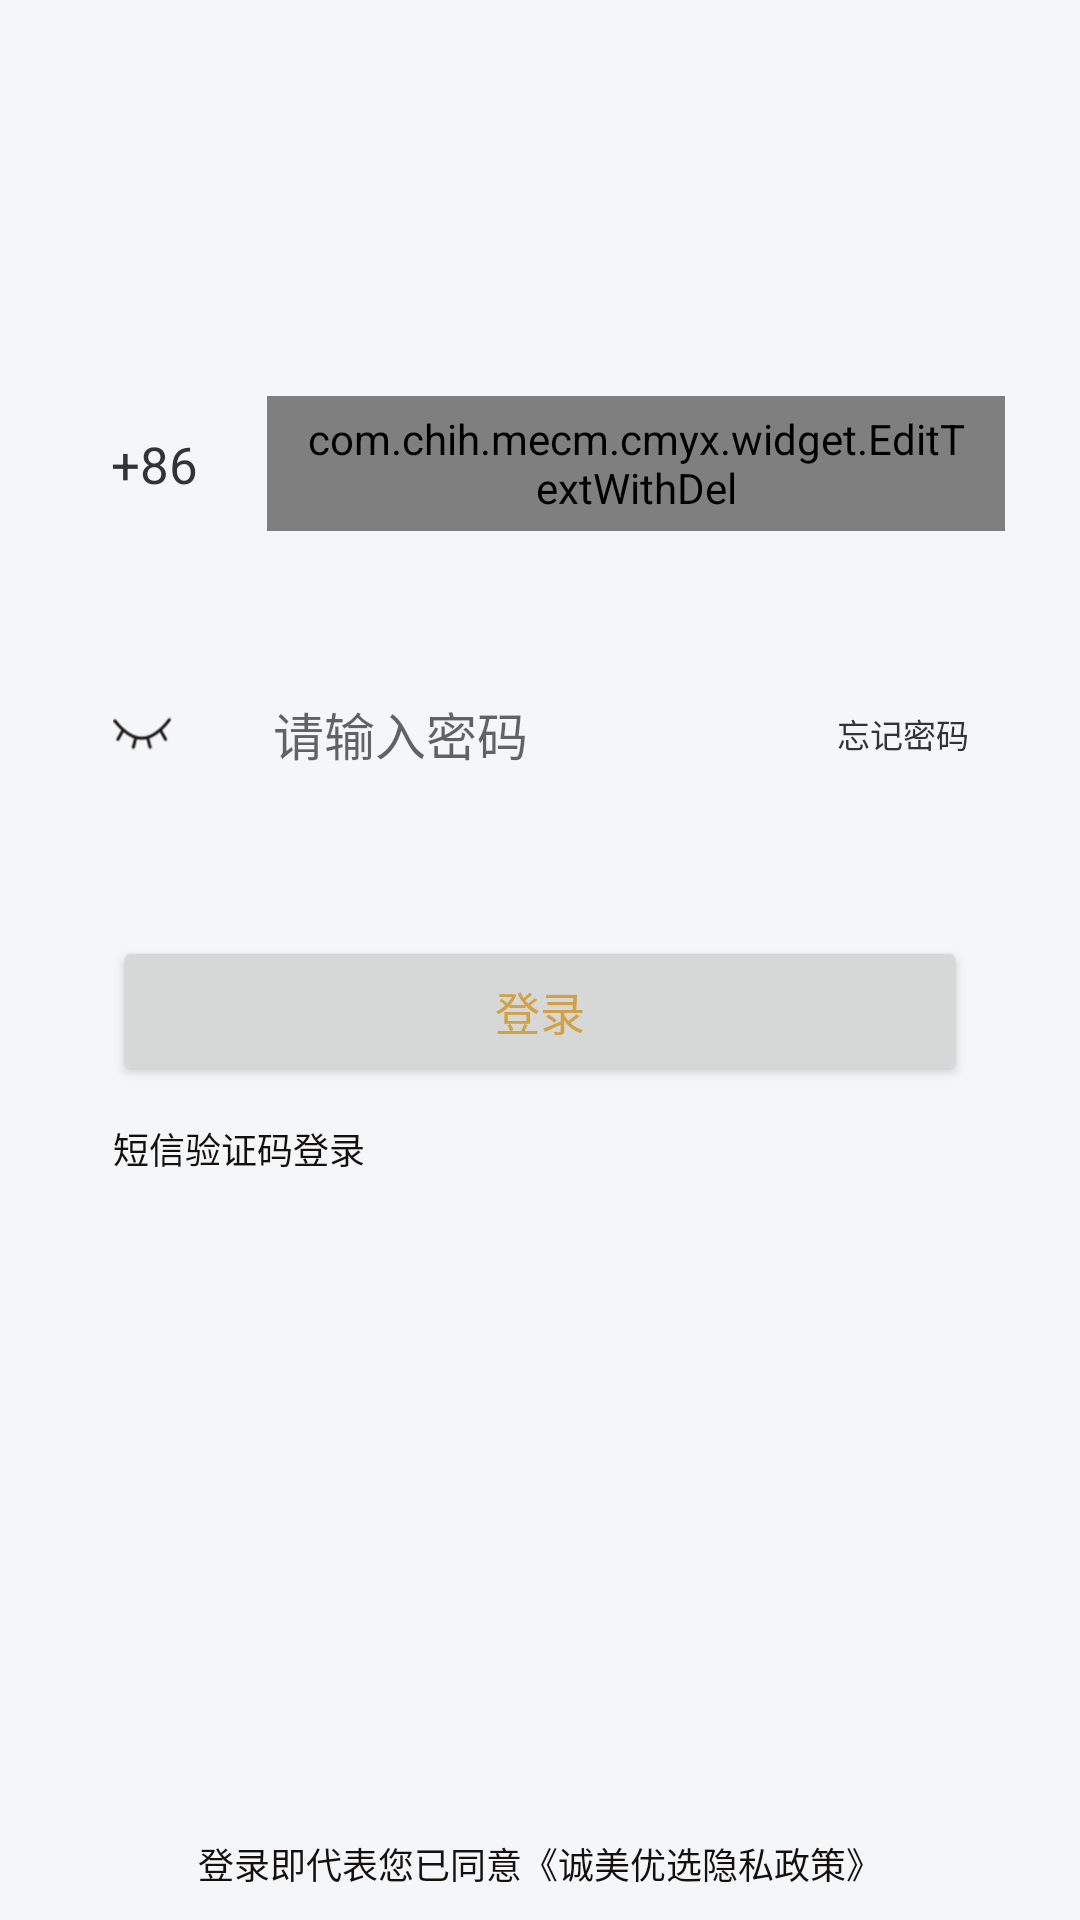

Icon bounding boxes for this 1080*1920 phone screenshot, format (x1, y1, x2, y2):
eye close: (113, 717, 172, 750)
